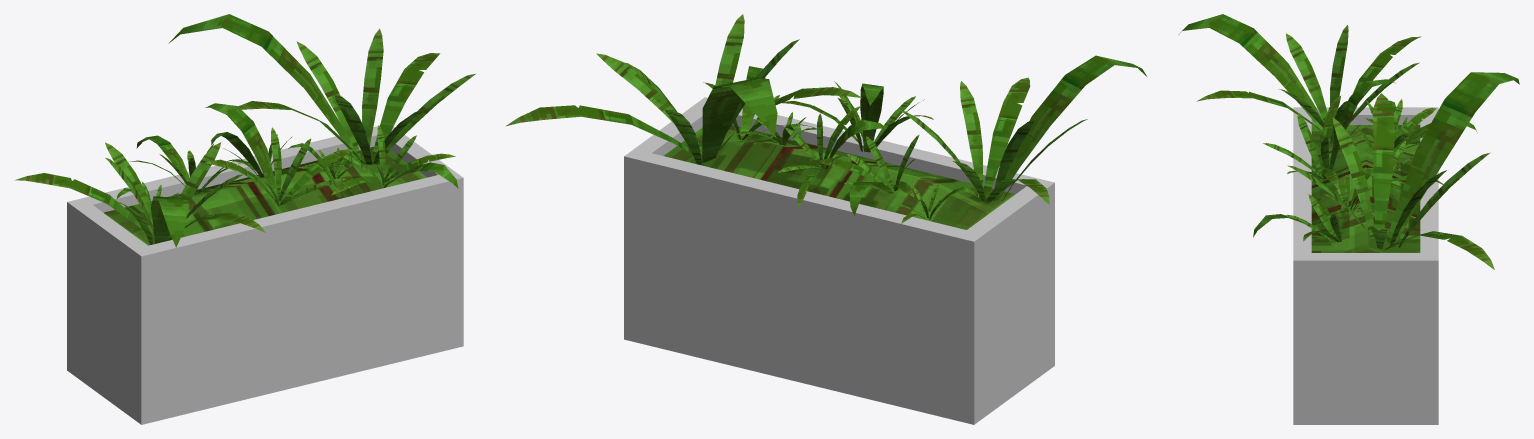
The model's file is sm_wallFlower_MidLower.fbx.
3 views of the same model, side by side, from view 1: azimuth 30°, elevation 25°; view 2: azimuth 150°, elevation 25°; view 3: azimuth 270°, elevation 25° (orthographic). The views are drawn at different scales.
Parts seen in each view (by area): view 1: sm_wallFlower_MidLower; view 2: sm_wallFlower_MidLower; view 3: sm_wallFlower_MidLower.
Boxes of the visible parts, x1=… form: sm_wallFlower_MidLower: x1=15, y1=14, x2=475, y2=424; sm_wallFlower_MidLower: x1=506, y1=14, x2=1146, y2=424; sm_wallFlower_MidLower: x1=1179, y1=14, x2=1519, y2=424.
Bounding box in the file's own units: 288 × 171 × 189.
